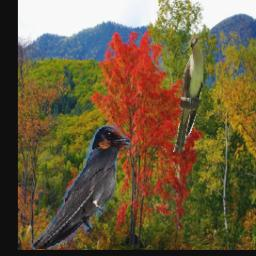Cuckoo: (173, 37, 203, 153)
Swallow: (32, 126, 131, 250)
